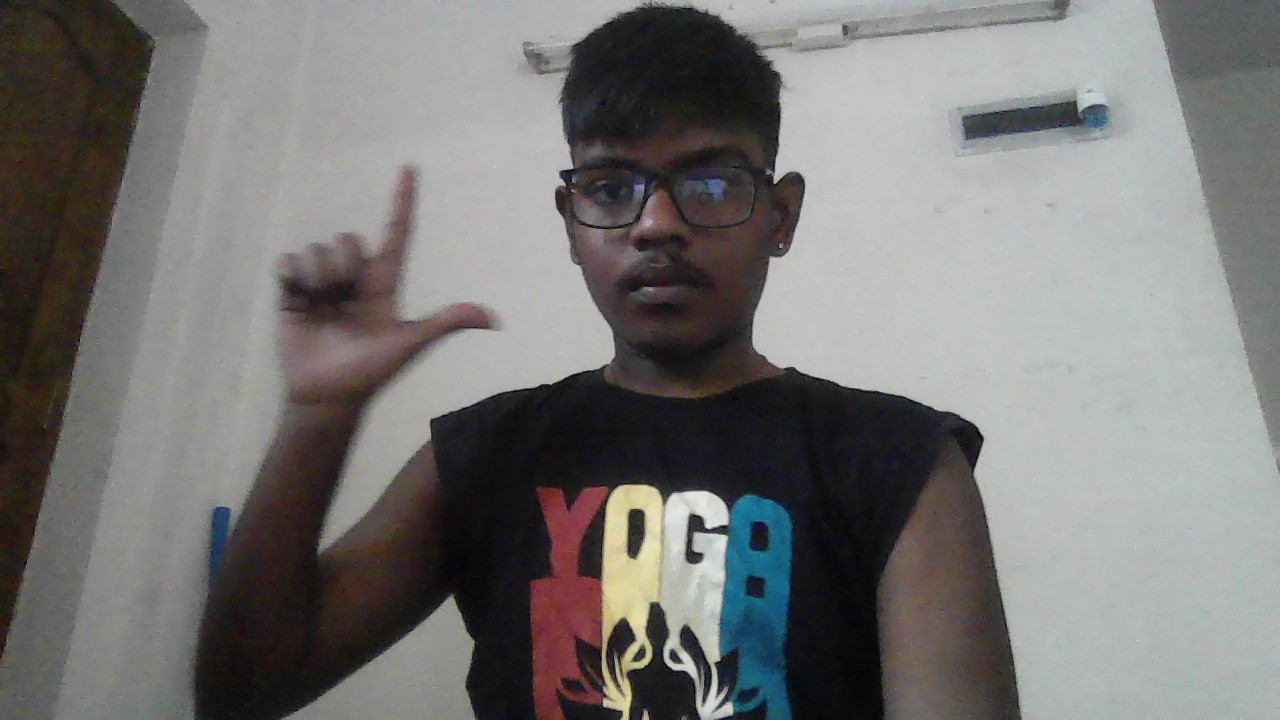L: (275, 163, 501, 386)
